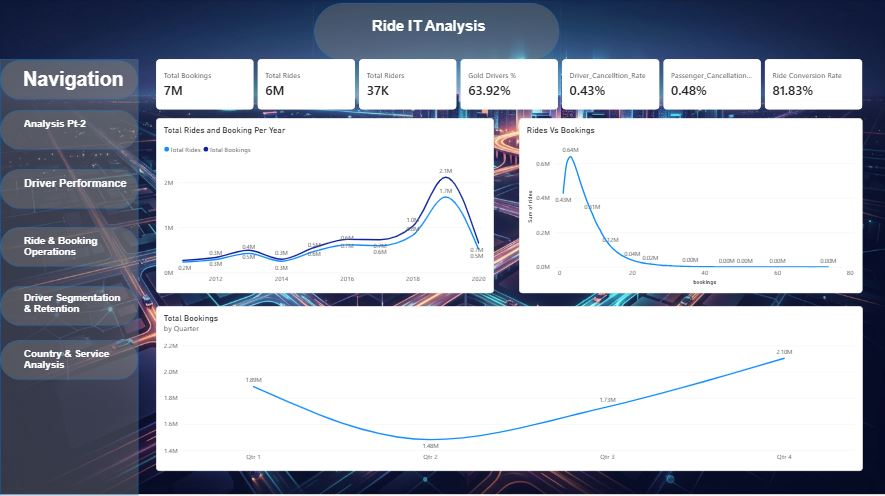

Layout of this report page (visuals, bound fields, positions):
{"tool":"powerbi","page":{"name":"Home DB","canvas":[1920,1080],"ordinal":0},"visuals":[{"type":"image","box":[0,0,1920,1080],"z":0},{"type":"shape","box":[680,10,532.5,125],"z":0,"group":"g7"},{"type":"shape","box":[0,370,300,86],"z":9,"group":"g2"},{"type":"shape","box":[0,497.5,300,86],"z":10,"group":"g1"},{"type":"shape","box":[0,625,300,86],"z":11,"group":"g4"},{"type":"shape","box":[0,742.5,300,86],"z":12,"group":"g5"},{"type":"shape","box":[0,242.5,300,86],"z":13,"group":"g9"},{"type":"textbox","box":[52,388,224,52],"z":14,"group":"g2"},{"type":"textbox","box":[52,515.5,224,52],"z":15,"group":"g1"},{"type":"textbox","box":[52,639,224,52],"z":16,"group":"g4"},{"type":"textbox","box":[52,759.5,224,52],"z":17,"group":"g5"},{"type":"textbox","box":[52,259.5,224,52],"z":18,"group":"g9"},{"type":"group","id":"g1","title":"Group 3","box":[0,497.5,300,86],"z":21,"group":"g3"},{"type":"textbox","box":[805,42.5,300,62.5],"z":1000,"group":"g7"},{"type":"shape","box":[0,132.5,300,946],"z":1000},{"type":"shape","box":[0,134,300,86],"z":2000,"group":"g8"},{"type":"group","id":"g2","title":"Group 1","box":[0,370,300,87.5],"z":2000},{"type":"textbox","box":[50,152,224,52],"z":3000,"group":"g8"},{"type":"group","id":"g3","title":"Group 2","box":[0,497.5,300,85],"z":3000},{"type":"group","id":"g4","title":"Group 4","box":[0,625,300,85],"z":4000},{"type":"group","id":"g5","title":"Group 5","box":[0,742.5,300,85],"z":5000},{"type":"group","id":"g6","title":"Group 6","box":[0,242.5,300,87.5],"z":6000},{"type":"group","id":"g7","title":"Group 8","box":[680,10,532.5,125],"z":7000},{"type":"group","id":"g8","title":"Group 9","box":[0,134,300,86],"z":8000},{"type":"cardVisual","fields":{"Data":["Measures_Own.Total Bookings","Measures_Own.Total Rides","Measures_Own.Total Riders","Measures_Own.Gold Drivers %","Measures_Own.Driver_Cancelltion_Rate","Measures_Own.Passenger_Cancellation_Rate","Measures_Own.Ride Conversion Rate"]},"box":[337.5,132.5,1532.5,110],"z":9000},{"type":"lineChart","title":"Rides Vs Bookings","fields":{"Category":["rideit_drivers_activity.bookings"],"Y":["Sum(rideit_drivers_activity.rides)"]},"box":[1125,260,745,380],"z":10000},{"type":"group","id":"g9","title":"Group 7","box":[0,242.5,300,86],"z":10001,"group":"g6"},{"type":"lineChart","title":"Total Rides and Booking Per Year","fields":{"Category":["rideit_drivers.date_registration.Variation.Date Hierarchy.Year"],"Y":["Measures_Own.Total Rides","Measures_Own.Total Bookings"]},"box":[338.3,260.2,732.5,380],"z":11000},{"type":"lineChart","fields":{"Category":["rideit_drivers.date_registration.Variation.Date Hierarchy.Quarter"],"Y":["Measures_Own.Total Bookings"]},"box":[338.3,668,1533.3,357.8],"z":12000}]}

Visuals, with their boxes in screenshot pixels (x1, y1, x2, y2), scaled from the page's 1920x1080 canvas onto the 885x496 screenshot:
image: x1=0, y1=0, x2=884, y2=495
shape: x1=313, y1=5, x2=559, y2=62
shape: x1=0, y1=170, x2=138, y2=209
shape: x1=0, y1=228, x2=138, y2=268
shape: x1=0, y1=287, x2=138, y2=327
shape: x1=0, y1=341, x2=138, y2=380
shape: x1=0, y1=111, x2=138, y2=151
textbox: x1=24, y1=178, x2=127, y2=202
textbox: x1=24, y1=237, x2=127, y2=261
textbox: x1=24, y1=293, x2=127, y2=317
textbox: x1=24, y1=349, x2=127, y2=373
textbox: x1=24, y1=119, x2=127, y2=143
"Group 3" group: x1=0, y1=228, x2=138, y2=268
textbox: x1=371, y1=20, x2=509, y2=48
shape: x1=0, y1=61, x2=138, y2=495
shape: x1=0, y1=62, x2=138, y2=101
"Group 1" group: x1=0, y1=170, x2=138, y2=210
textbox: x1=23, y1=70, x2=126, y2=94
"Group 2" group: x1=0, y1=228, x2=138, y2=268
"Group 4" group: x1=0, y1=287, x2=138, y2=326
"Group 5" group: x1=0, y1=341, x2=138, y2=380
"Group 6" group: x1=0, y1=111, x2=138, y2=152
"Group 8" group: x1=313, y1=5, x2=559, y2=62
"Group 9" group: x1=0, y1=62, x2=138, y2=101
cardVisual - Measures_Own.Total Bookings x Measures_Own.Total Rides: x1=156, y1=61, x2=862, y2=111
"Rides Vs Bookings" lineChart: x1=519, y1=119, x2=862, y2=294
"Group 7" group: x1=0, y1=111, x2=138, y2=151
"Total Rides and Booking Per Year" lineChart: x1=156, y1=119, x2=494, y2=294
lineChart - rideit_drivers.date_registration.Variation.Date Hierarchy.Quarter x Measures_Own.Total Bookings: x1=156, y1=307, x2=863, y2=471
